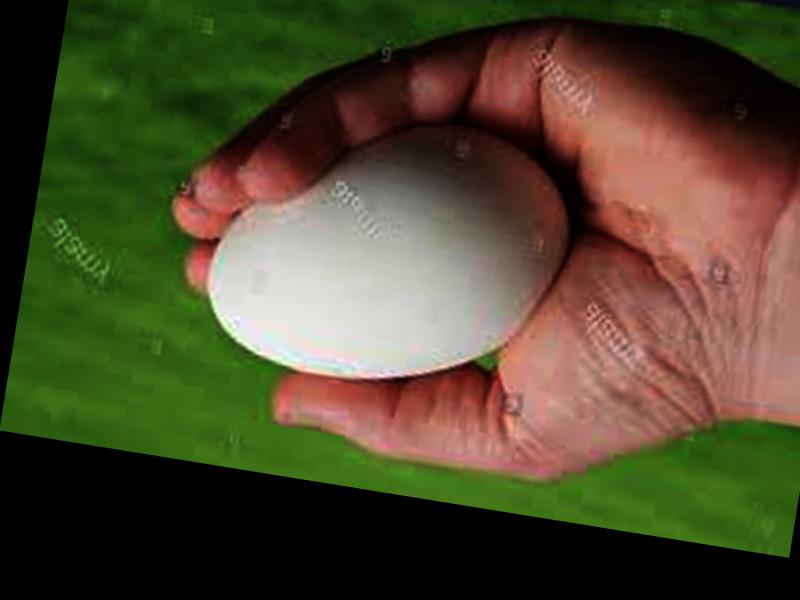Eggs: (197, 89, 590, 413)
